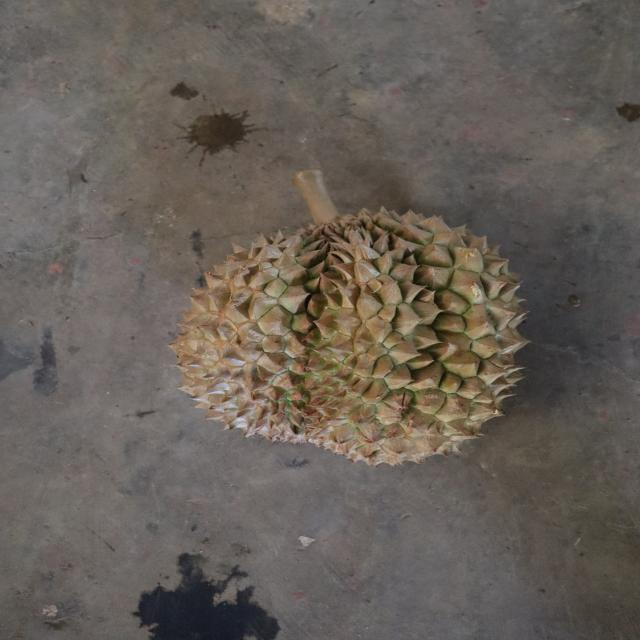mature: (162, 205, 533, 464)
